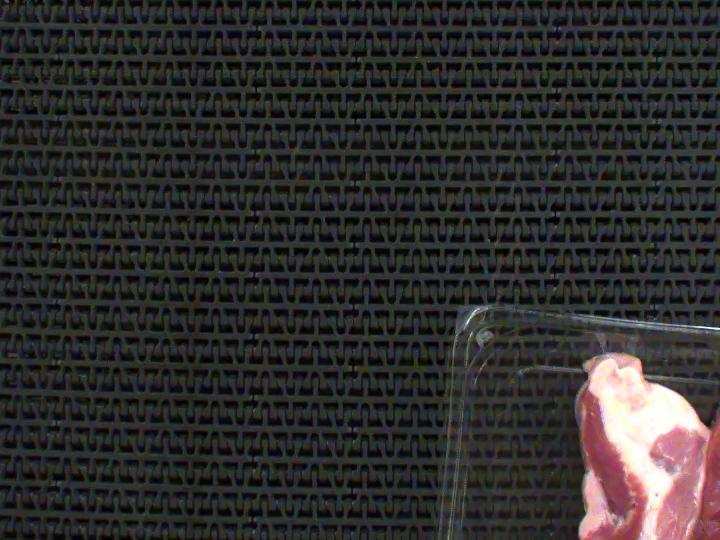packaging-error: (587, 321, 633, 367)
